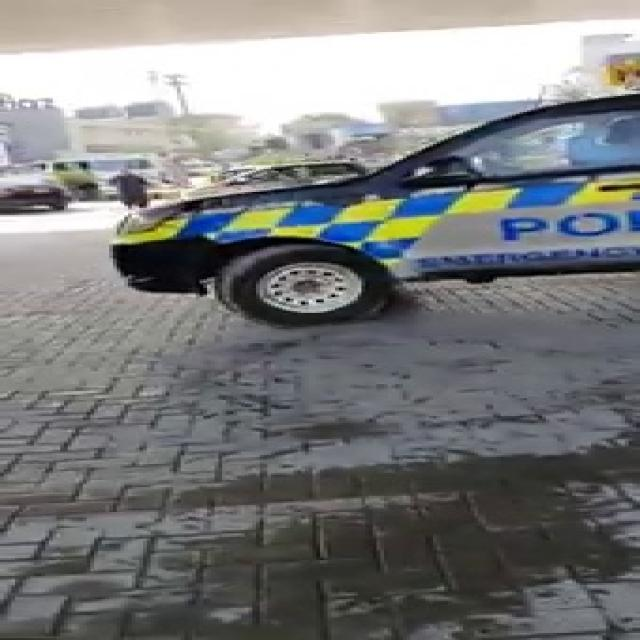police: (75, 57, 640, 309)
